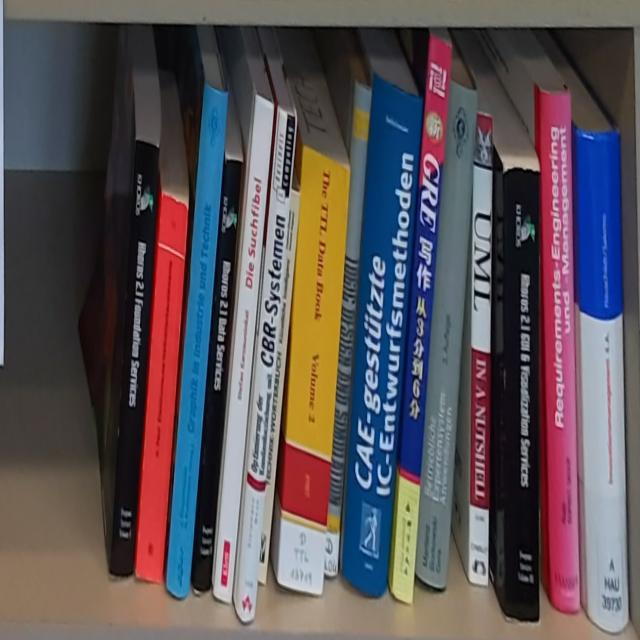Book Spine: (341, 72, 424, 597), (392, 34, 452, 608), (212, 94, 277, 611), (278, 143, 351, 600), (413, 80, 477, 592), (235, 107, 297, 625), (168, 84, 229, 598), (577, 130, 629, 633), (109, 139, 160, 580), (194, 159, 245, 597), (540, 91, 581, 618), (325, 81, 368, 580), (135, 194, 188, 584), (258, 189, 299, 590), (505, 168, 540, 628), (469, 113, 492, 593)
